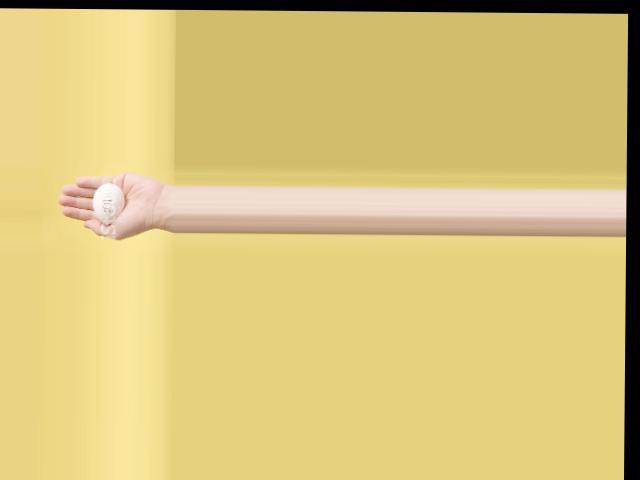egg: (92, 182, 124, 224)
